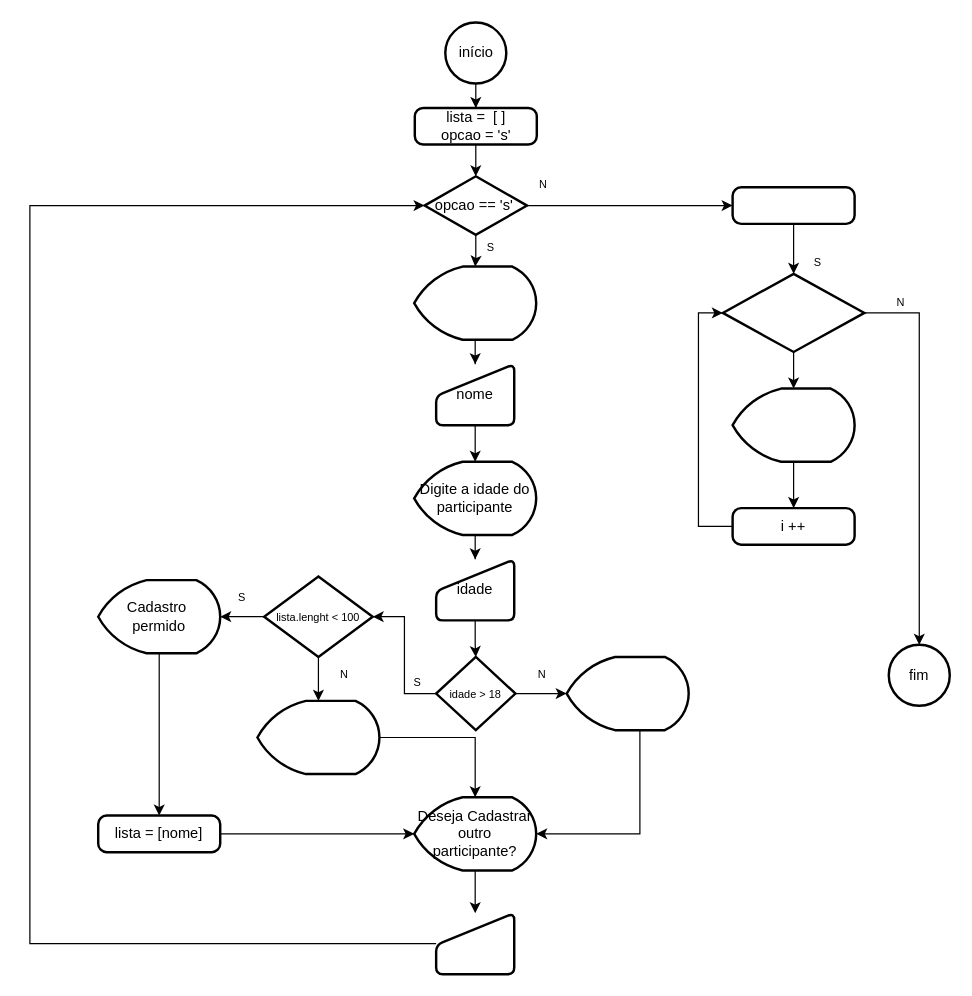
Some shapes in this 972 by 996 pixel diagram are drawn without their labels. Each missing label, with the centre of its shape:
"Cadastro não permido" goes at (627,693).
"Cadastro não permido, lista cheia" goes at (318,737).
"Digite o nome do participante" goes at (474,302).
"i < lista.lenght" goes at (793,312).
"i = 0" goes at (793,204).
"lista[ i ]" goes at (793,424).
"opcao" goes at (474,943).
